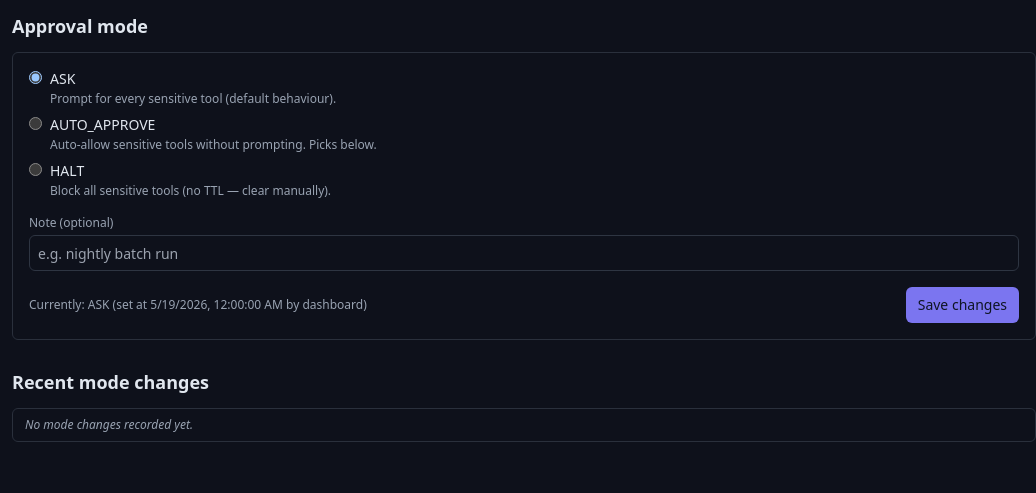
Test: ApprovalModeSection › reveals TTL picker when AUTO_APPROVE is selected
Click the radio button with test id "mode-radio-AUTO_APPROVE": [36, 124] box [29,117,42,130]
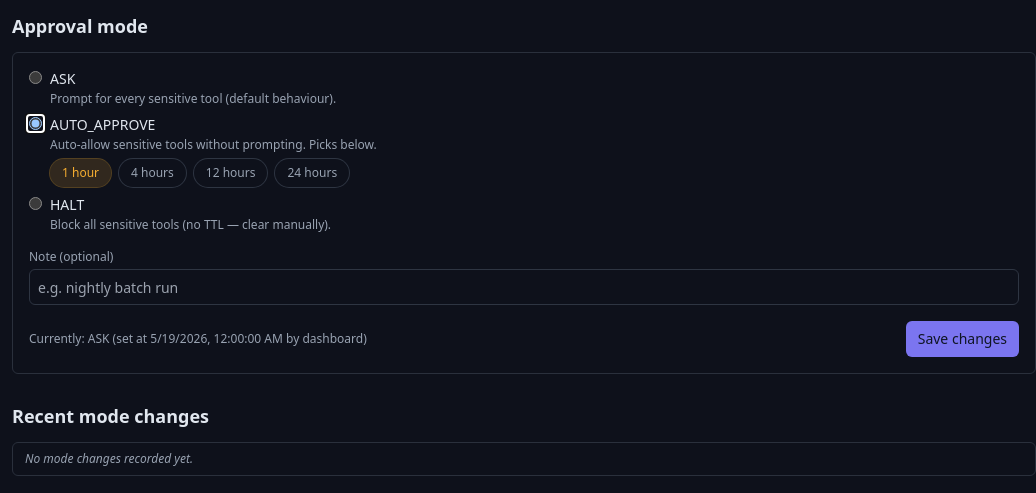
Expected: the radio button with test id "ttl-radio-3600" is shown, [50,159,111,187]
Expected: the radio button with test id "ttl-radio-14400" is shown, [119,159,186,187]
Expected: the radio button with test id "ttl-radio-43200" is shown, [194,159,268,187]
